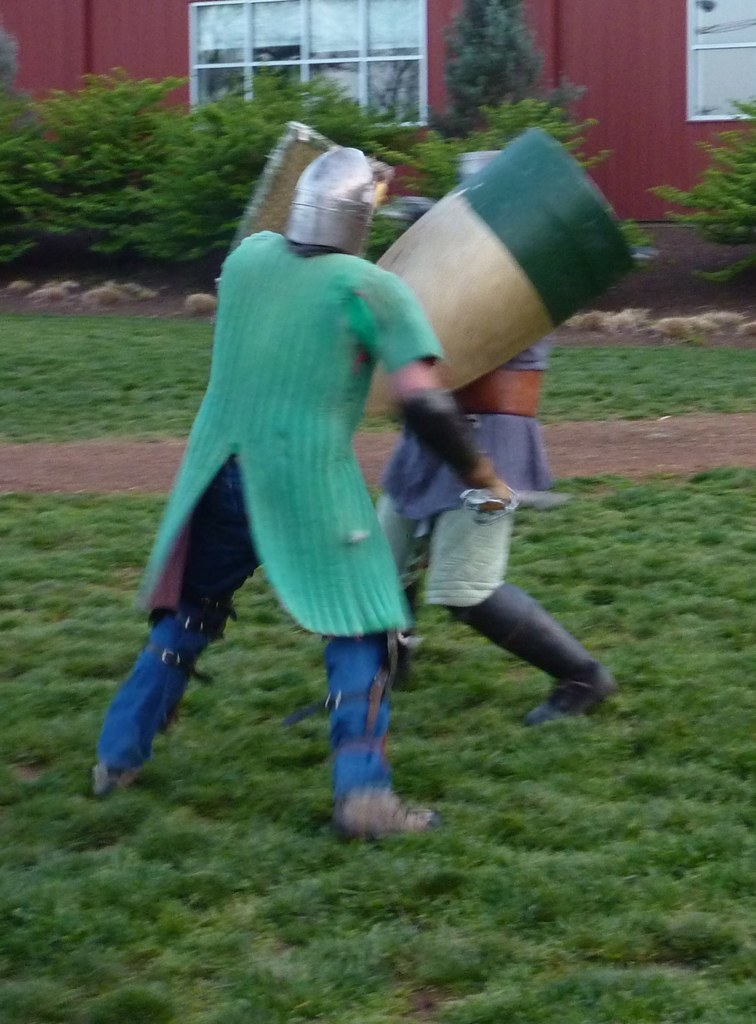Footwear: (444, 581, 618, 735), (382, 563, 430, 693), (336, 785, 442, 833), (86, 751, 141, 803)
